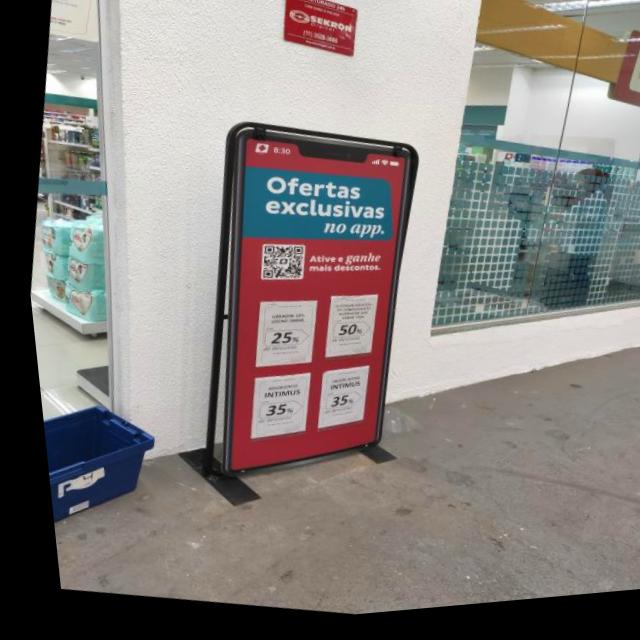qrcode: (254, 247, 301, 290)
